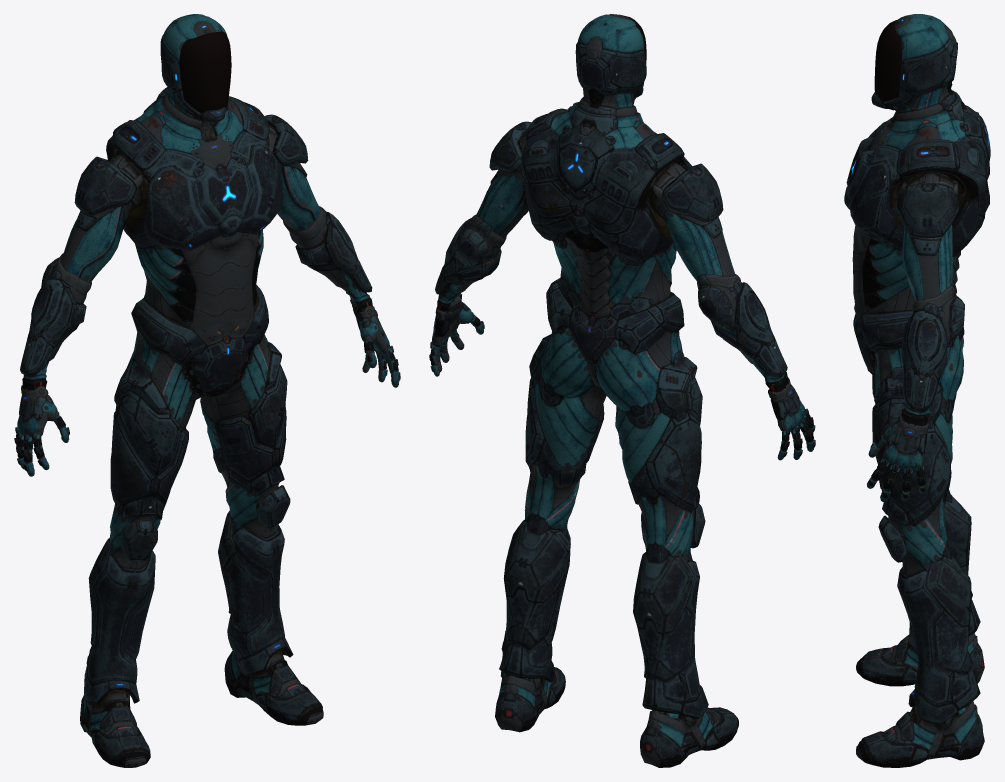
The model's file is humanoid-robot.fbx.
The picture shows the model from 3 angles, left to right: view 1: azimuth 30°, elevation 25°; view 2: azimuth 150°, elevation 25°; view 3: azimuth 270°, elevation 25°; orthographic projection.
Parts seen in each view (by area): view 1: defaultMaterial_0, defaultMaterial; view 2: defaultMaterial_0; view 3: defaultMaterial_0, defaultMaterial.
Boxes of the visible parts, x1,y1,x2,y2 form: defaultMaterial_0: (14, 14, 400, 767); defaultMaterial: (179, 31, 231, 113); defaultMaterial_0: (429, 14, 815, 767); defaultMaterial_0: (844, 14, 990, 767); defaultMaterial: (874, 20, 901, 101).
Size of the model in its own units: 111 by 200 by 37.81.
2 materials, 1 textured.
